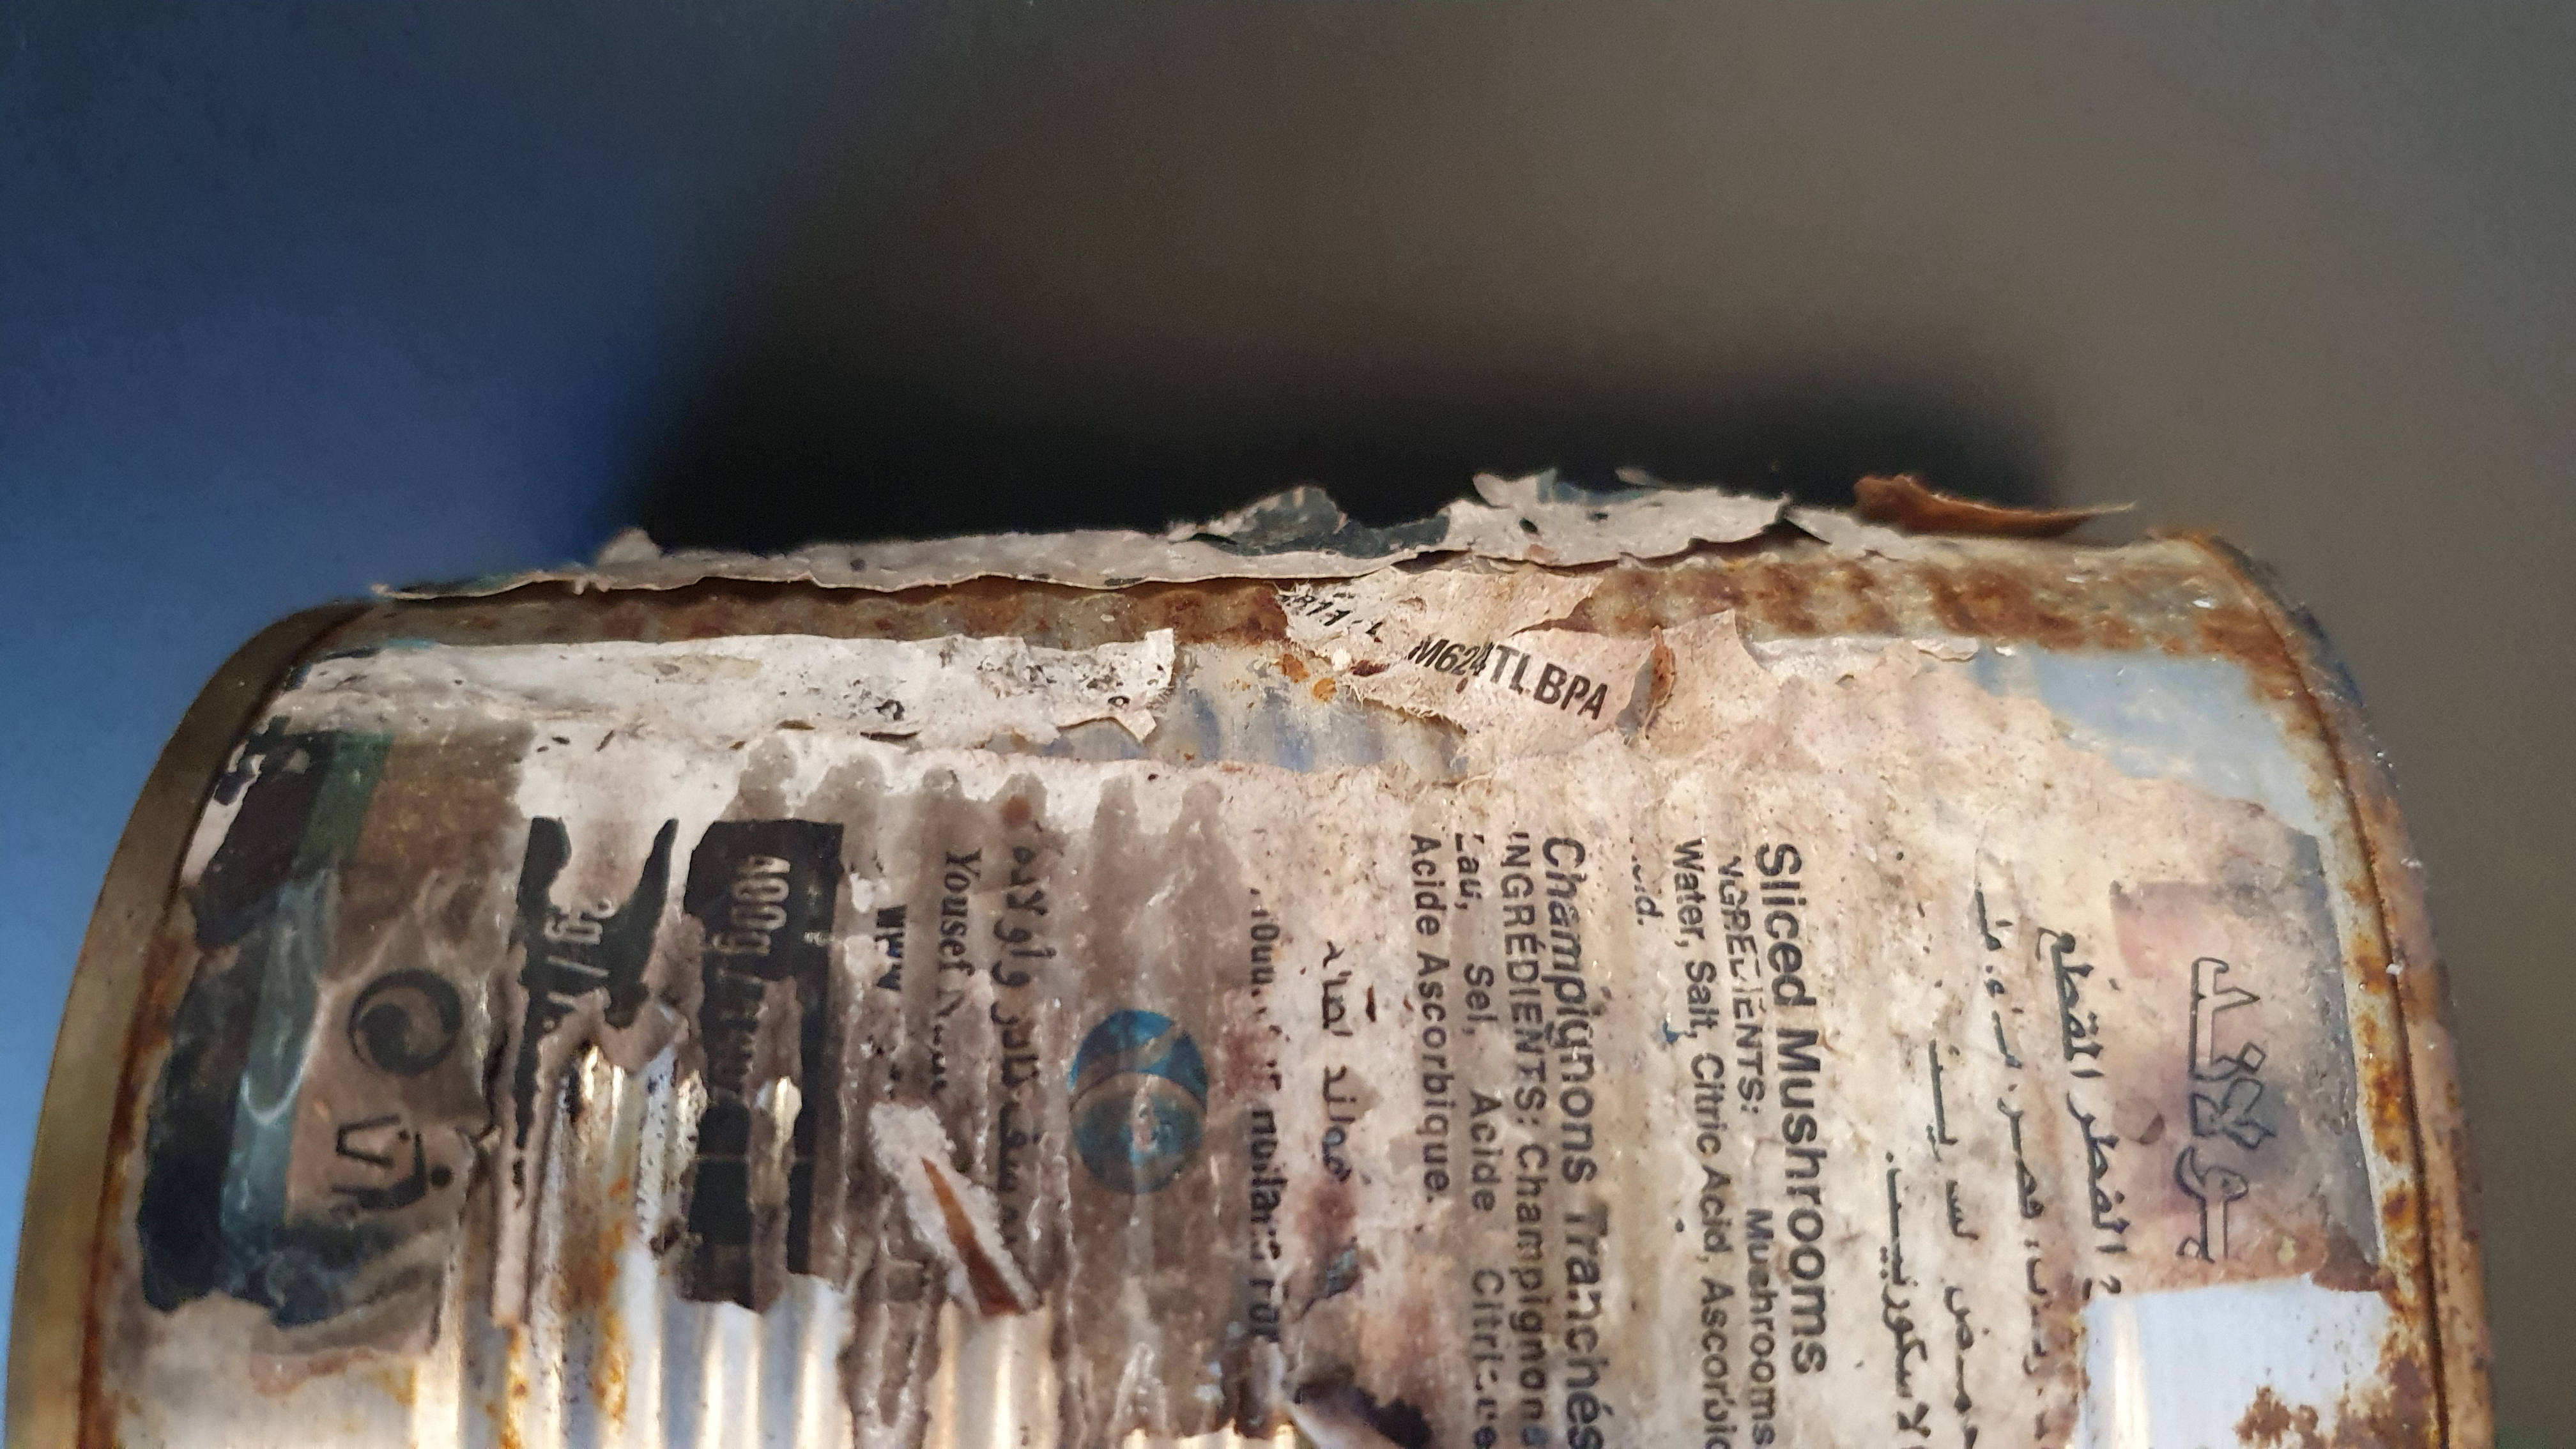metal: (2, 467, 2519, 1449)
